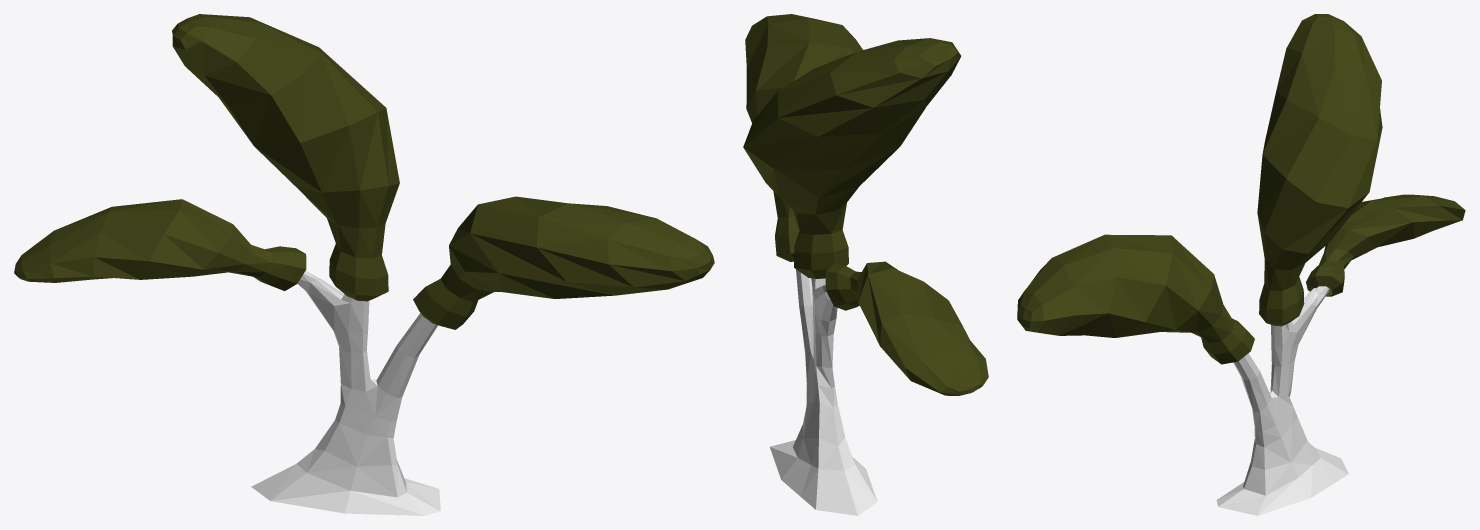
File: tree_solid_05a.fbx
The picture shows the model from 3 angles, left to right: view 1: azimuth 30°, elevation 25°; view 2: azimuth 150°, elevation 25°; view 3: azimuth 270°, elevation 25°; orthographic projection. The views are drawn at different scales.
Parts seen in each view (by area): view 1: tree_solid_05; view 2: tree_solid_05; view 3: tree_solid_05.
Part boxes in pixels (bbox=[...]): tree_solid_05: bbox=[14, 14, 714, 515]; tree_solid_05: bbox=[743, 14, 988, 515]; tree_solid_05: bbox=[1017, 14, 1465, 515].
Size of the model in its own units: 9.2 by 9.27 by 9.1.
